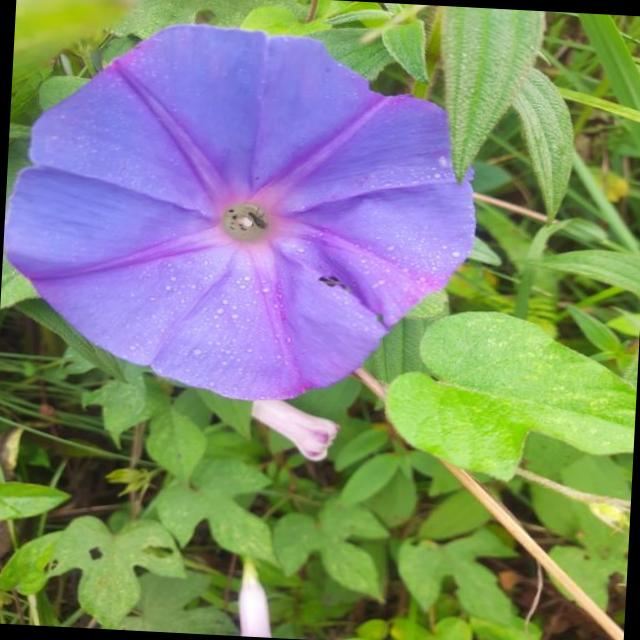ipomoea: (0, 12, 490, 416)
